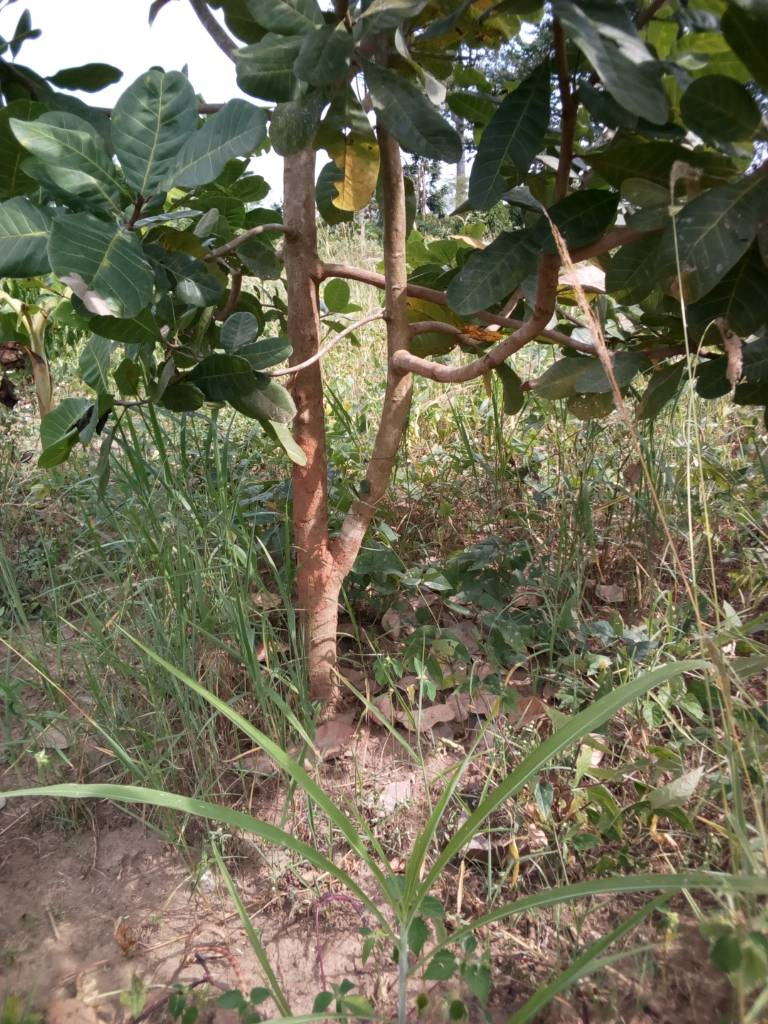Termites: (296, 324, 327, 630)
